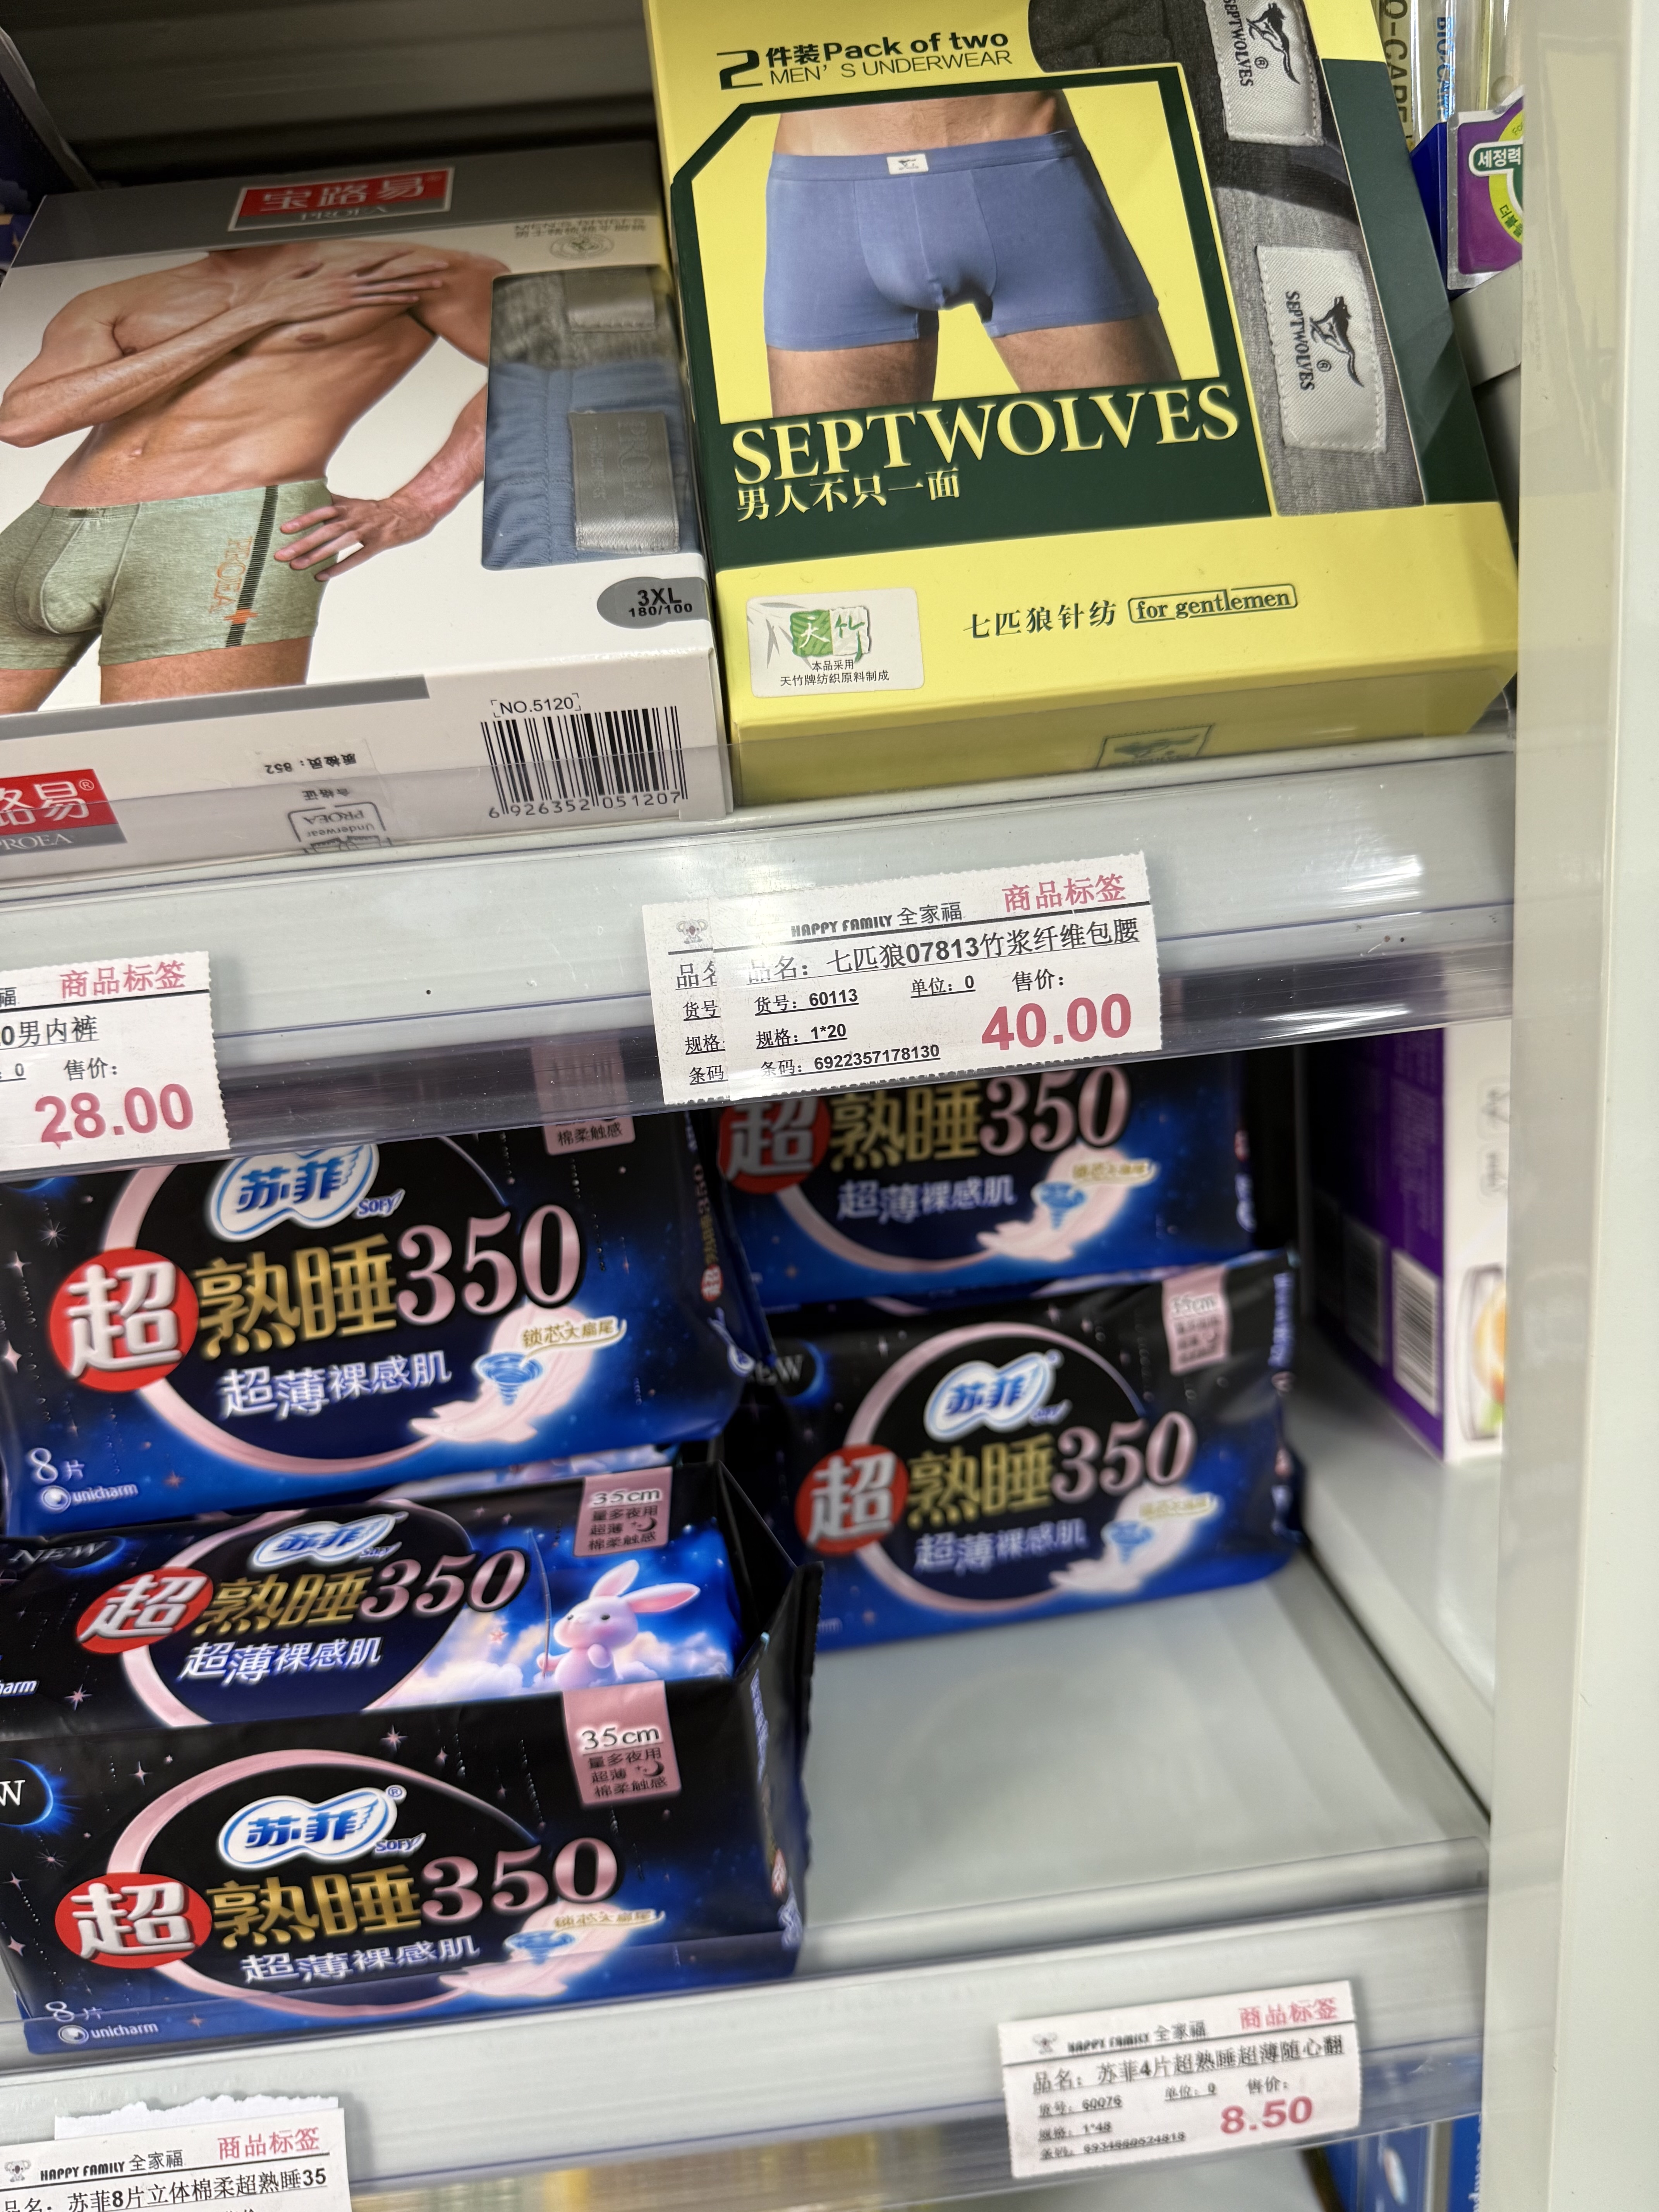bar: (476, 702, 699, 815)
